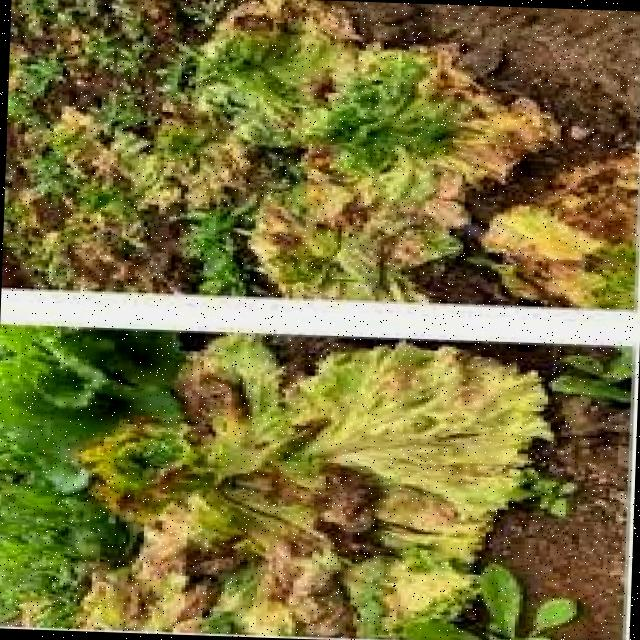Wilt_and_leaf_blight_on_lettuce: (81, 355, 462, 627), (263, 37, 495, 269)
